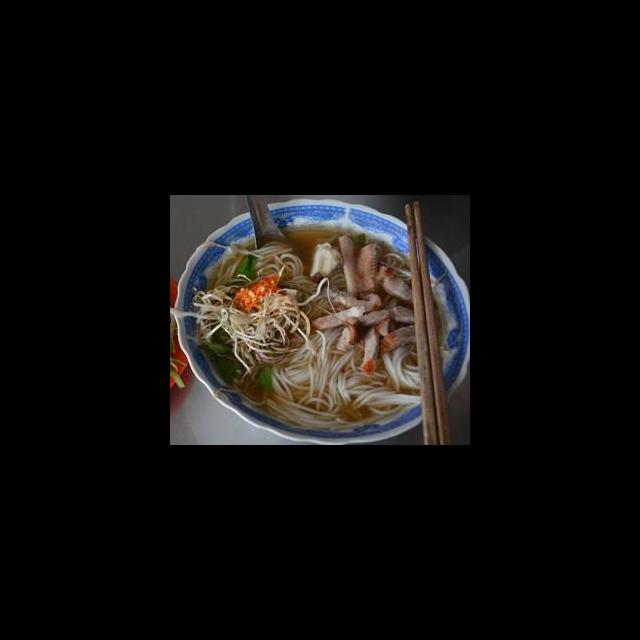bun: (260, 322, 425, 434)
ca: (336, 230, 382, 298), (305, 237, 344, 282)
thit heo quay: (345, 301, 418, 347), (319, 280, 385, 316), (356, 304, 384, 376), (310, 303, 370, 331), (377, 264, 416, 303)
